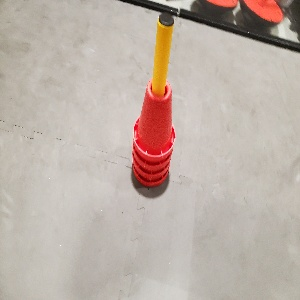Red_4: (131, 72, 175, 190)
